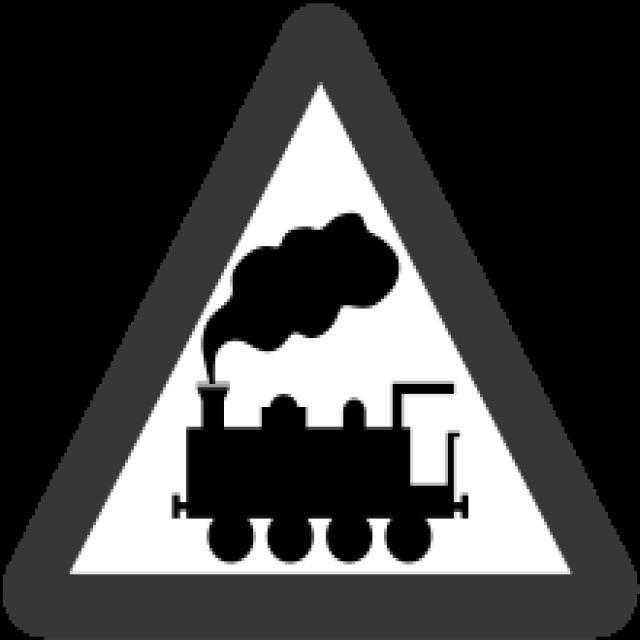unguarded level crossing: (49, 50, 595, 612)
